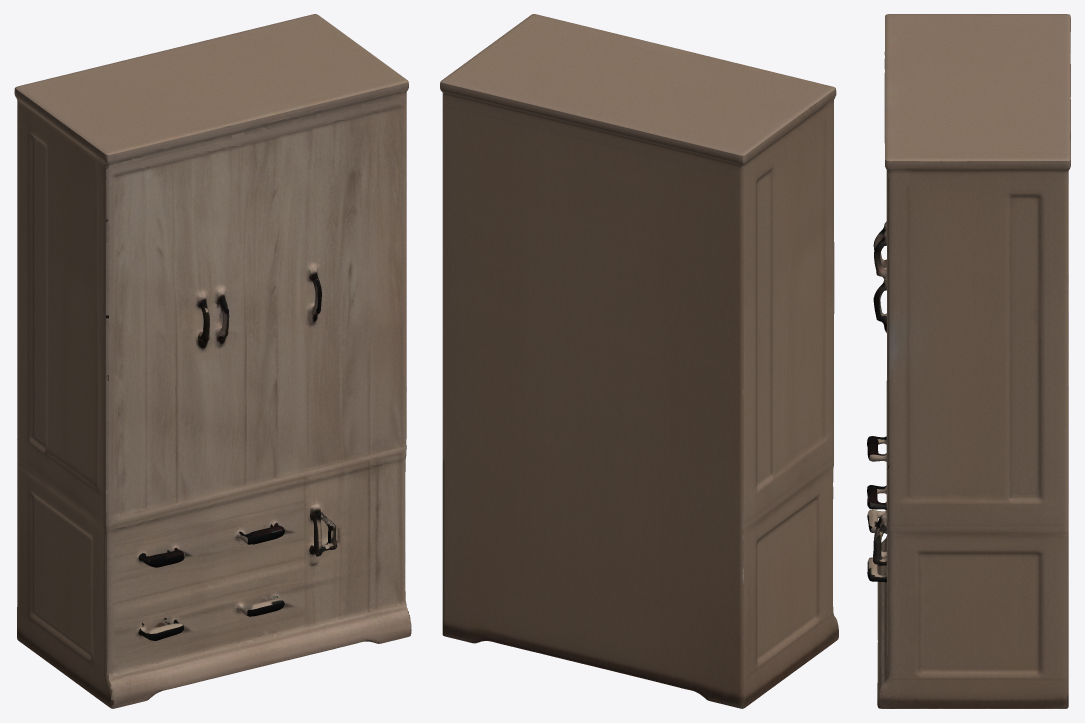
Rendered from wardrobe__wardrobe#1.glb.
The picture shows the model from 3 angles, left to right: view 1: azimuth 30°, elevation 25°; view 2: azimuth 150°, elevation 25°; view 3: azimuth 270°, elevation 25°; orthographic projection.
Visible parts, largest first — view 1: tmpsrj5iczm.ply; view 2: tmpsrj5iczm.ply; view 3: tmpsrj5iczm.ply.
Part boxes in pixels (x1,y1,x2,y2): tmpsrj5iczm.ply: [14, 14, 411, 708]; tmpsrj5iczm.ply: [440, 14, 838, 708]; tmpsrj5iczm.ply: [867, 14, 1070, 708].
Size of the model in its own units: 1.14 by 1.99 by 0.6676.
Materials: 1 (1 with a texture image).
